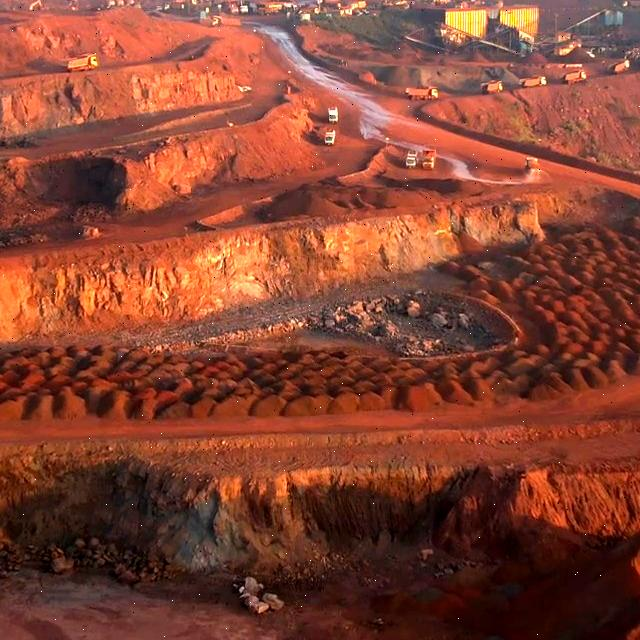Dumper truck: (65, 57, 98, 70), (406, 88, 438, 101), (518, 75, 547, 87), (212, 15, 242, 26), (561, 70, 586, 82), (482, 81, 503, 93), (611, 59, 630, 72)
car: (406, 148, 418, 169), (325, 129, 336, 147), (327, 109, 338, 125)
